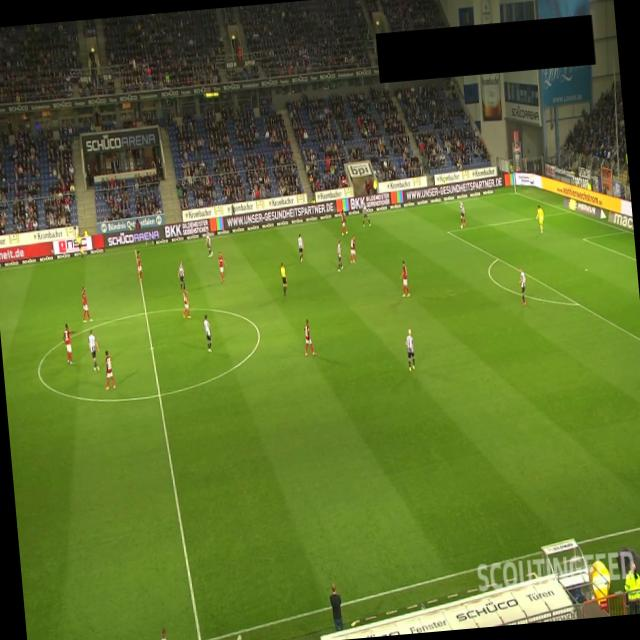ball: (459, 223, 463, 230)
goalkeeper: (534, 203, 546, 233)
player: (86, 327, 100, 372), (302, 318, 316, 357), (102, 349, 115, 390), (404, 328, 416, 372), (62, 322, 74, 364), (79, 285, 92, 322), (398, 259, 410, 298), (216, 250, 228, 283), (202, 314, 212, 353), (180, 287, 191, 319), (518, 266, 527, 304), (360, 199, 371, 228), (177, 260, 186, 292), (335, 239, 344, 271), (135, 250, 143, 283), (348, 235, 357, 264), (458, 199, 467, 228), (338, 210, 348, 235), (296, 232, 304, 262), (205, 230, 212, 256)
referee: (279, 260, 288, 296), (75, 230, 84, 259)
